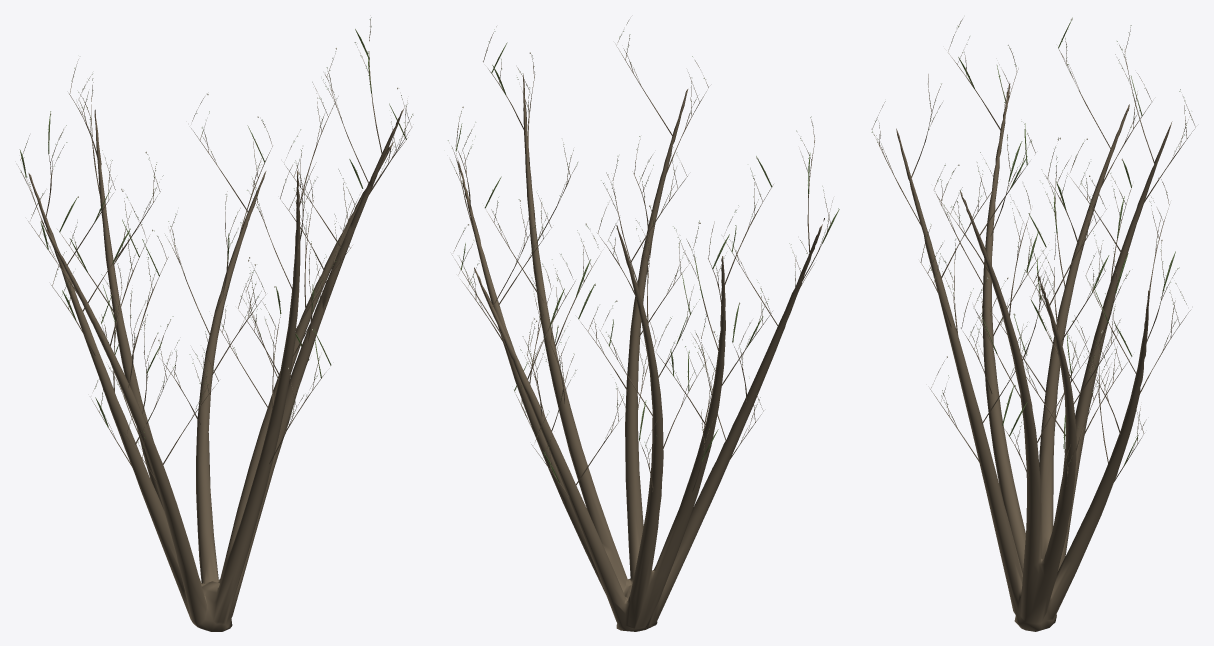
The model's file is Bruyere_2_Niveau0.fbx.
3 views of the same model, side by side, from view 1: azimuth 30°, elevation 25°; view 2: azimuth 150°, elevation 25°; view 3: azimuth 270°, elevation 25° (orthographic). The views are drawn at different scales.
Parts seen in each view (by area): view 1: Bruyere_2_Niveau0; view 2: Bruyere_2_Niveau0; view 3: Bruyere_2_Niveau0.
Part boxes in pixels (box(x1,y1,x2,y2)): Bruyere_2_Niveau0: box(18, 17, 413, 631); Bruyere_2_Niveau0: box(448, 19, 839, 631); Bruyere_2_Niveau0: box(871, 17, 1195, 631).
Size of the model in its own units: 151 by 216 by 111.
